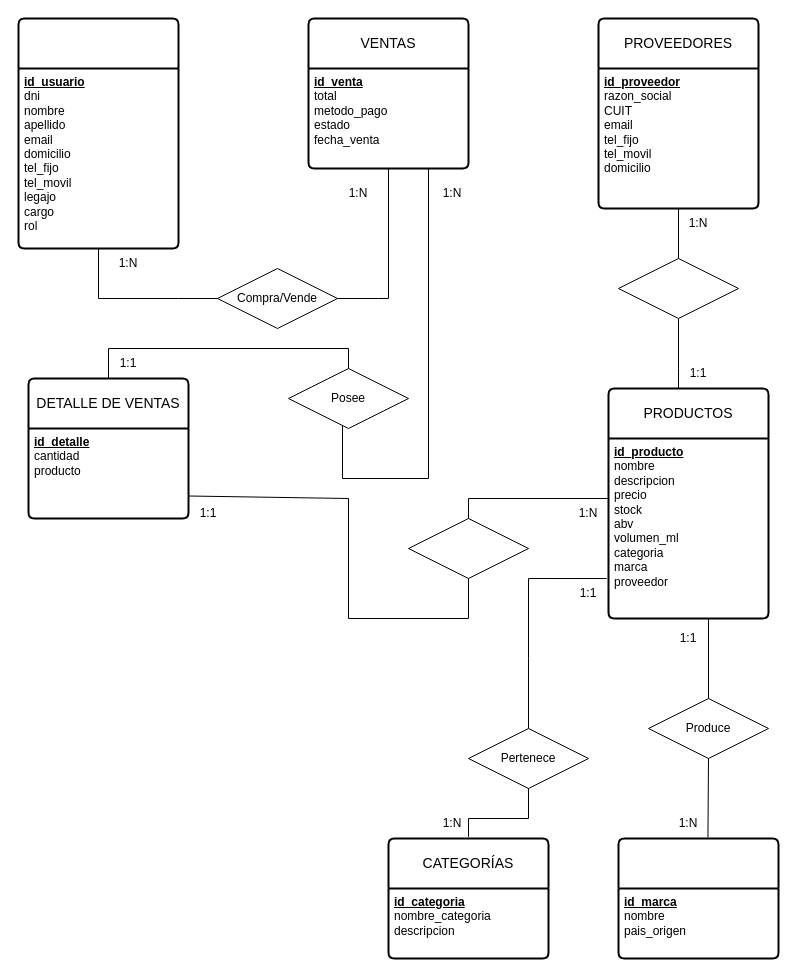
The diagram is 796 pixels wide and 976 high, and some of its shapes have lost their labels. Here are the shapes that lost their labels. From the top down, the box of each, then its label:
(17, 17, 179, 249): USUARIOS
(618, 258, 738, 318): Comercializa
(408, 518, 528, 578): Se incluye en
(617, 837, 779, 959): MARCAS
